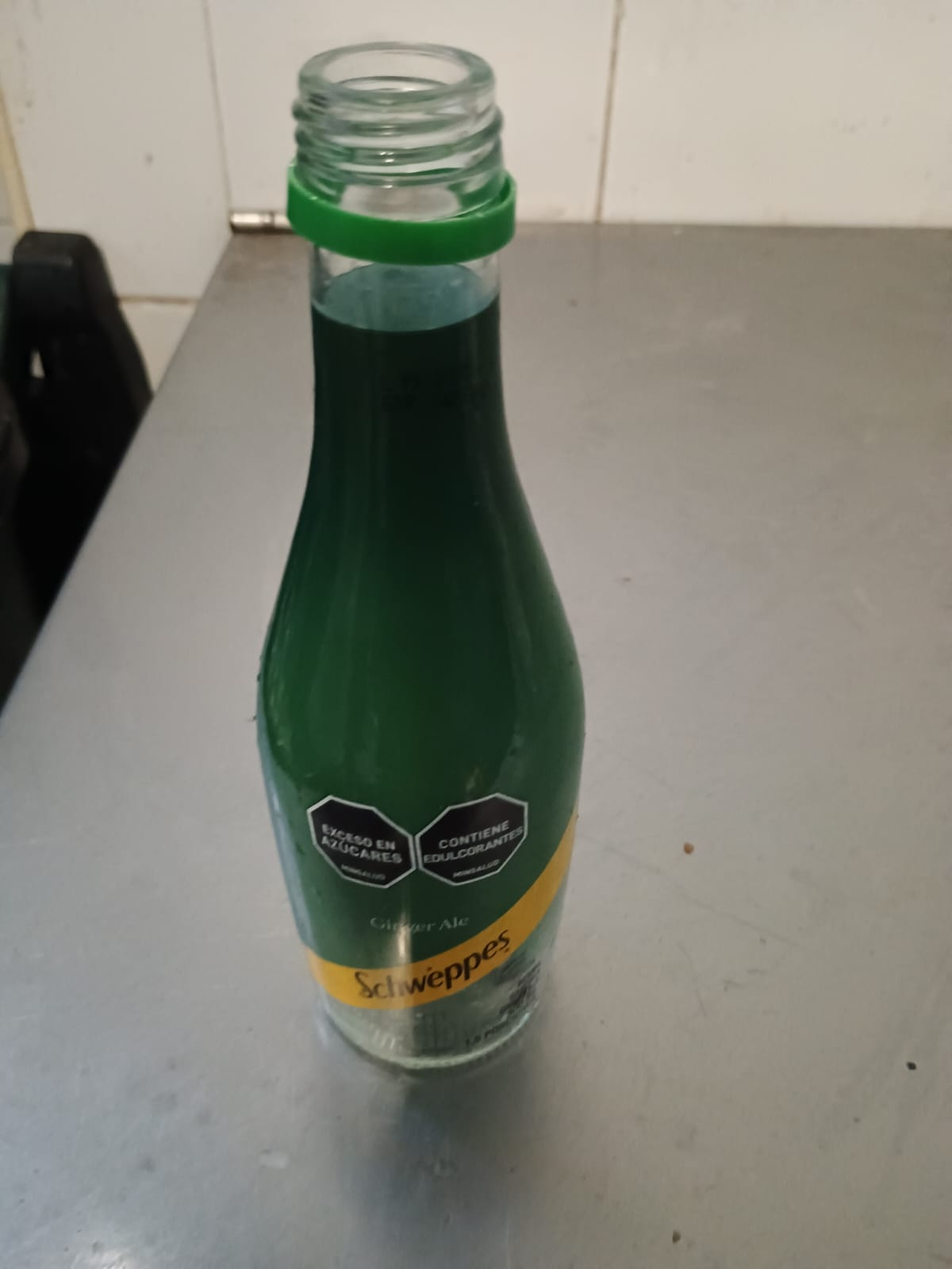Vidrio: (253, 41, 586, 1074)
